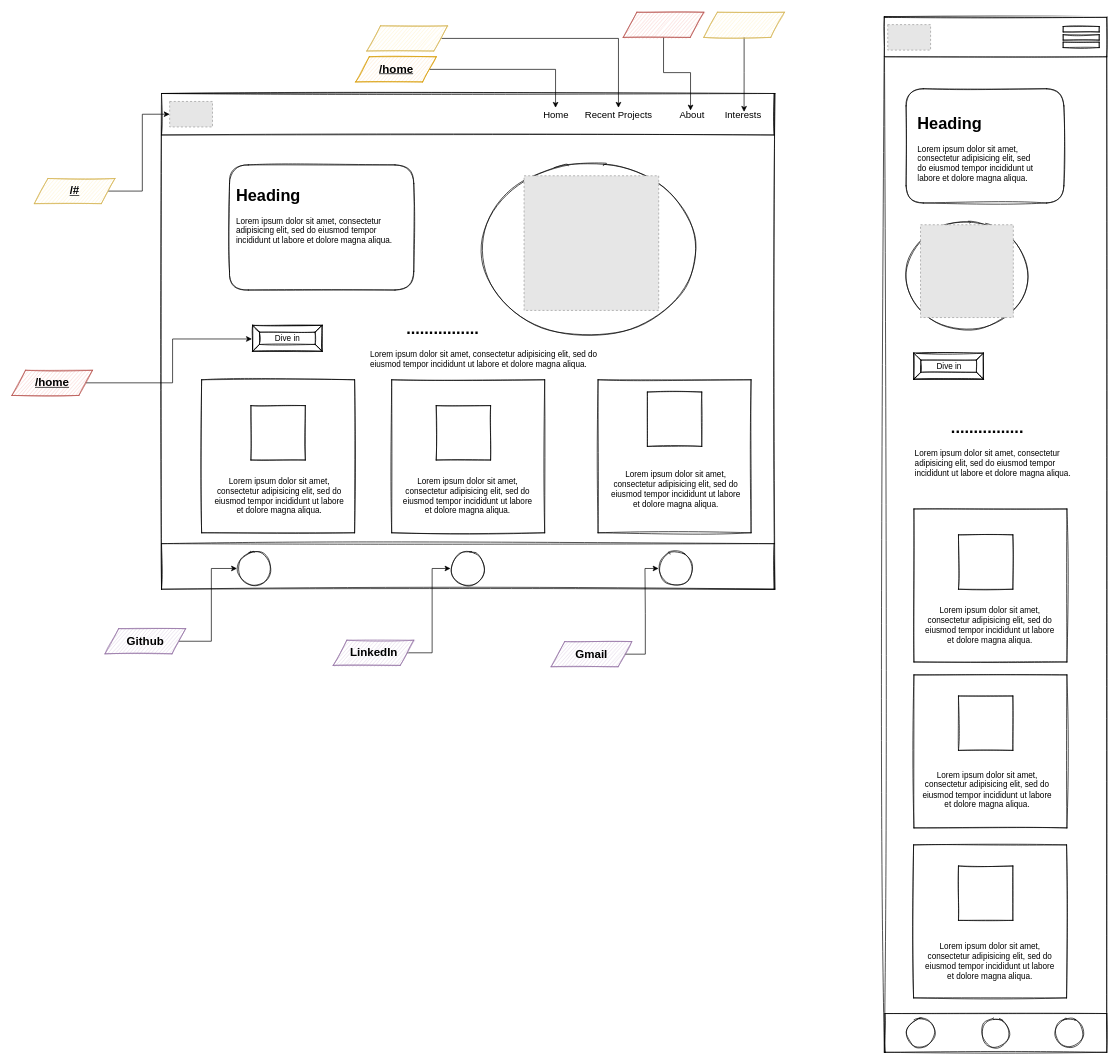
Some shapes in this 1119 by 1064 pixel diagram are drawn without their labels. Grey dashed boxes stand in for pictures. The shapes that lost their labels are listed below. From the top down, each one's centre as x and y in pixels, then its label:
point (406, 38): /projects
point (663, 24): /about
point (743, 24): /interests
